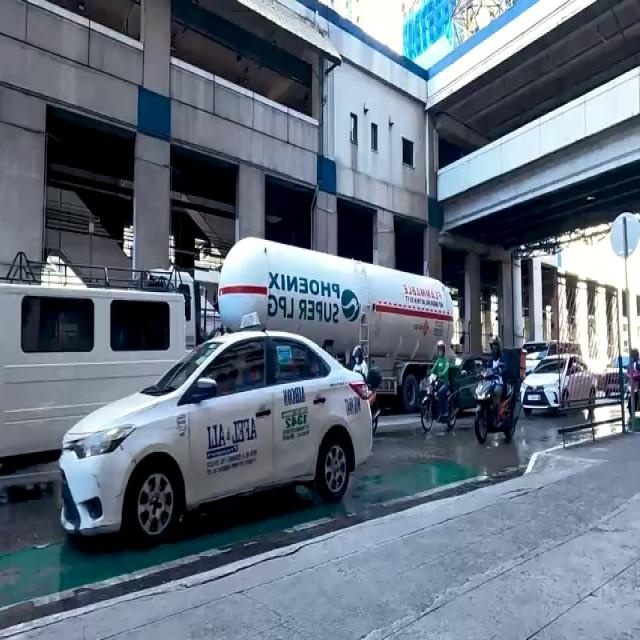car: (77, 338, 357, 532), (0, 287, 191, 456), (518, 354, 593, 418)
motorcycle: (470, 340, 515, 442), (421, 346, 454, 434)
truck: (152, 236, 448, 404)
